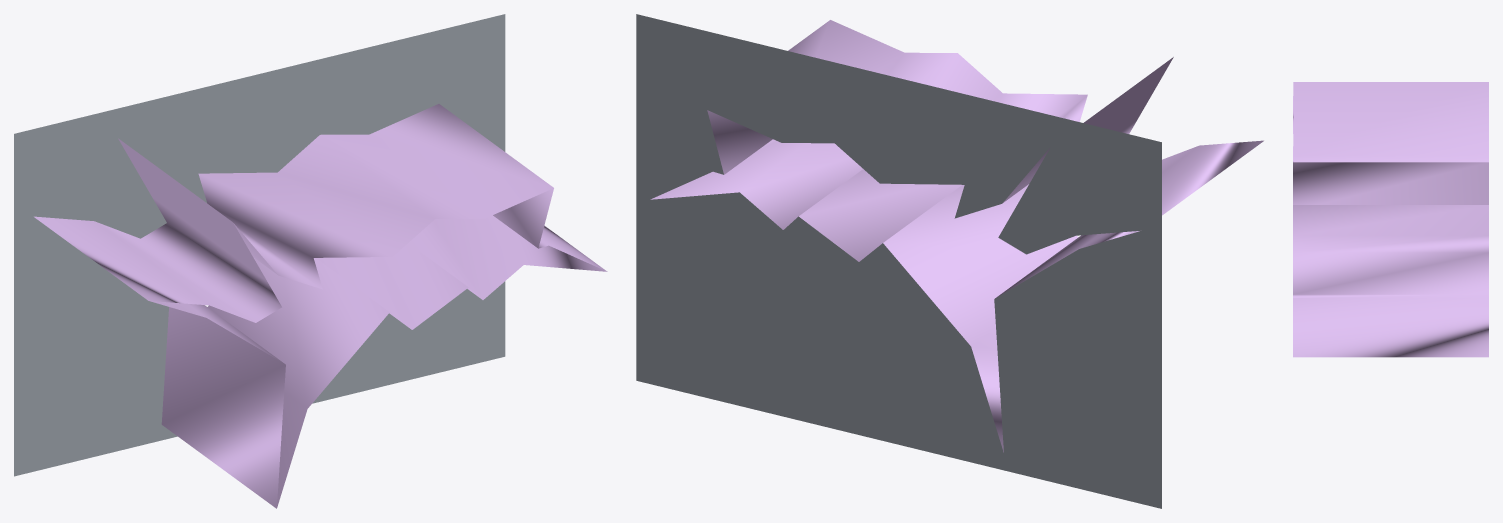
3 renders of one model, left to right at view 1: azimuth 30°, elevation 25°; view 2: azimuth 150°, elevation 25°; view 3: azimuth 270°, elevation 25°, orthographic. The views are drawn at different scales.
Parts seen in each view (by area): view 1: Object08; view 2: Object08; view 3: Object08.
Part boxes in pixels (x1,y1,x2,y2): Object08: (14, 14, 607, 508); Object08: (636, 14, 1263, 508); Object08: (1293, 82, 1488, 357).
Size of the model in its own units: 30000 by 20000 by 12187.
